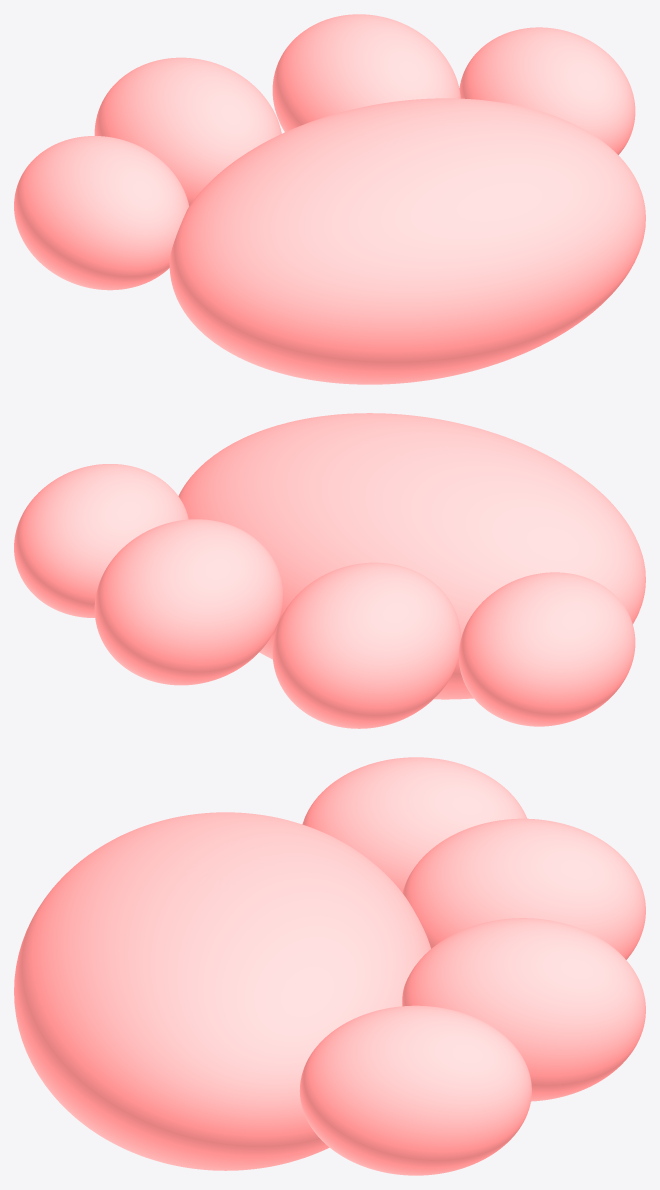
Rendered from bear_paw.glb.
The picture shows the model from 3 angles, top to bottom: view 1: azimuth 30°, elevation 25°; view 2: azimuth 150°, elevation 25°; view 3: azimuth 270°, elevation 25°; orthographic projection. The views are drawn at different scales.
Parts seen in each view (by area): view 1: BearPaw; view 2: BearPaw; view 3: BearPaw.
Part boxes in pixels (x1,y1,x2,y2): BearPaw: (14,14,645,384); BearPaw: (14,413,645,728); BearPaw: (14,757,645,1175).
Size of the model in its own units: 2.25 by 0.838 by 1.83.
